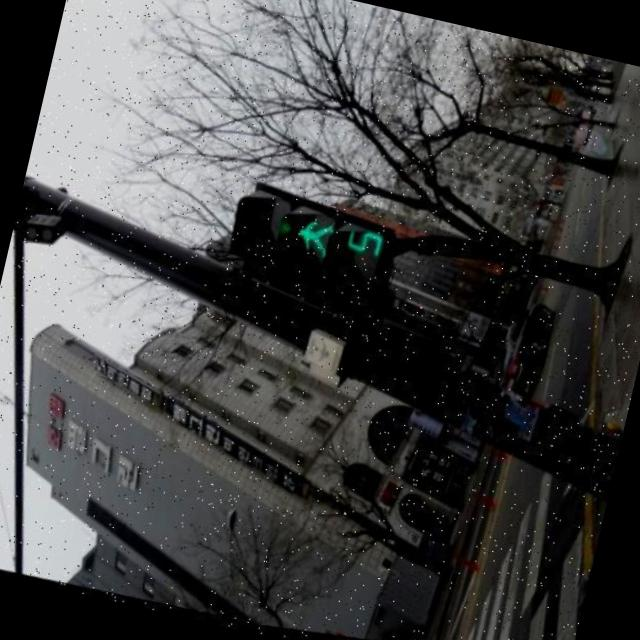green_light: (280, 210, 397, 303)
